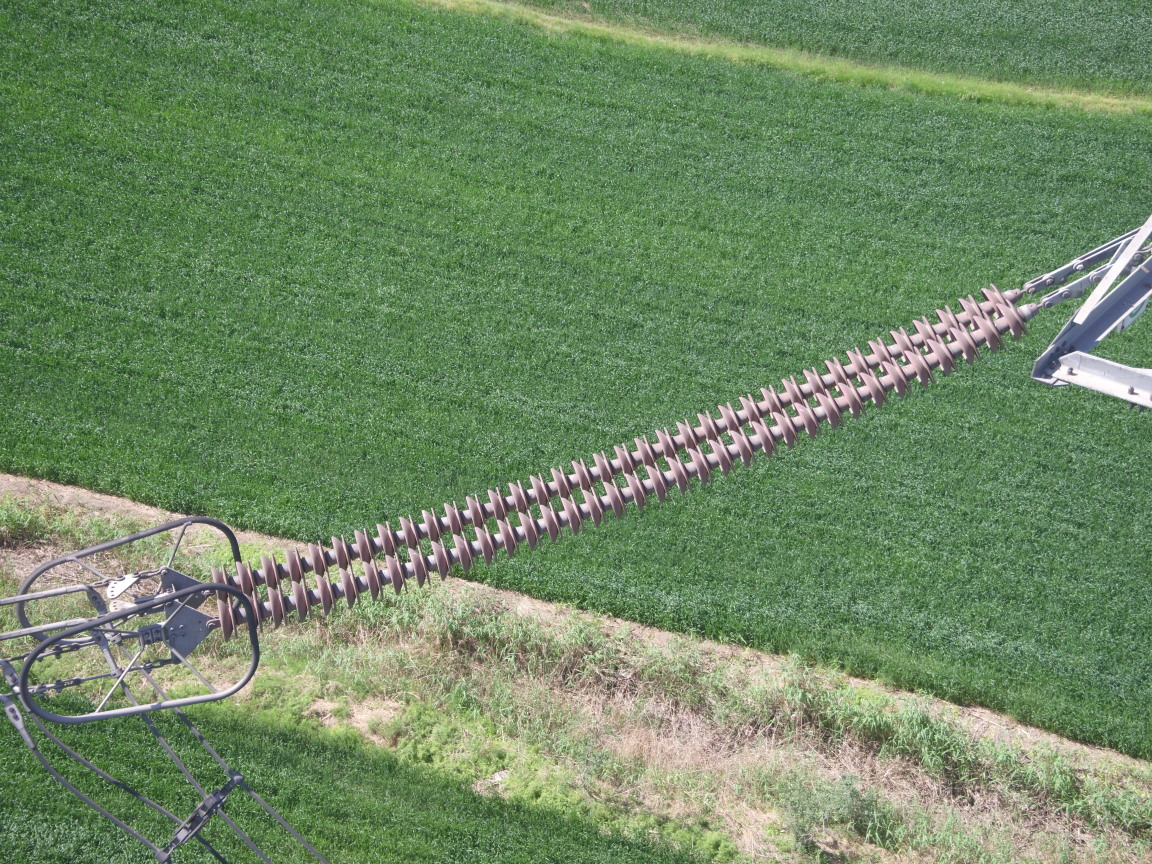insulator: (192, 275, 1068, 645)
